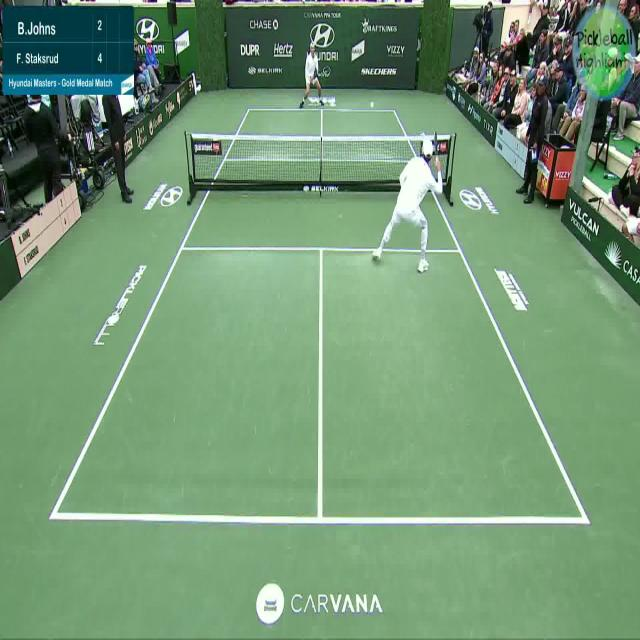Court: (51, 107, 589, 523)
ball: (368, 96, 378, 108)
